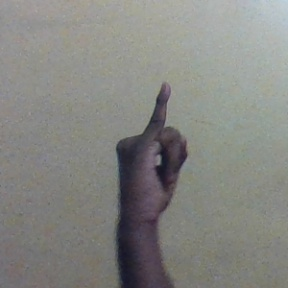I: (112, 82, 190, 222)
